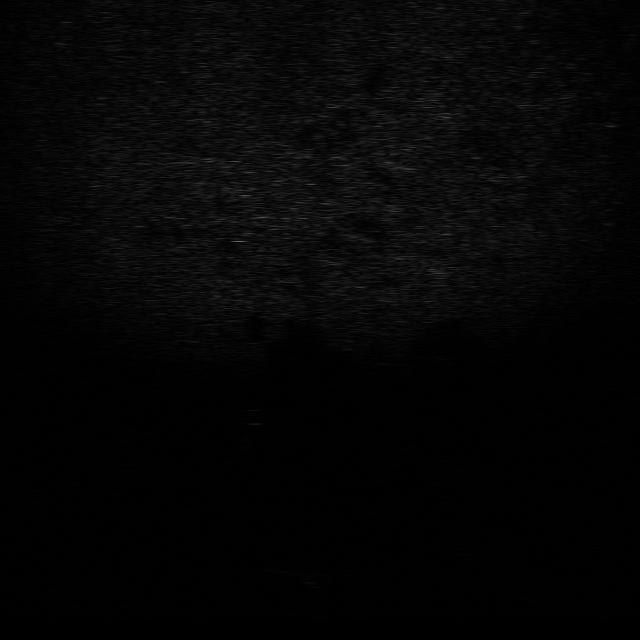ball: (234, 406, 275, 429)
metal bucket: (255, 564, 327, 593)
tyre: (424, 522, 488, 560)
